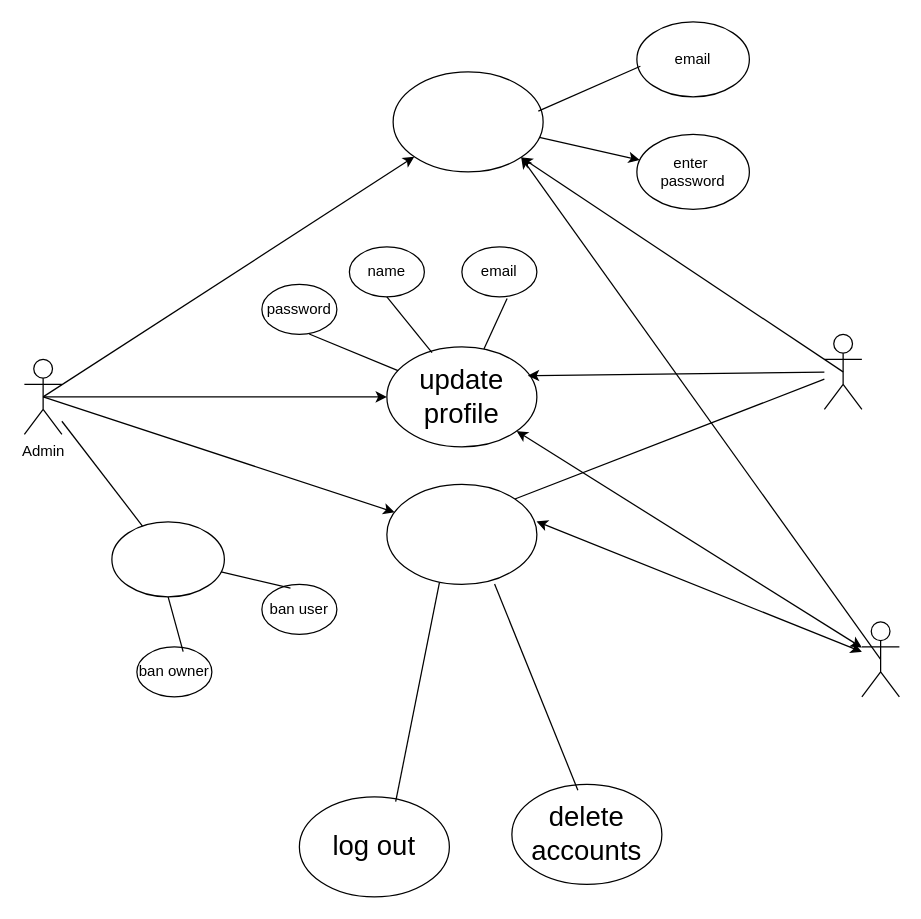
The diagram is 921 pixels wide and 919 high, and some of its shapes have lost their labels. Each missing label, with the centre of its shape:
"data mastry" belongs at point (167, 559).
"manage accounts" belongs at point (461, 533).
"shop owner" belongs at point (842, 371).
"sign in" belongs at point (467, 121).
"user" belongs at point (880, 659).
